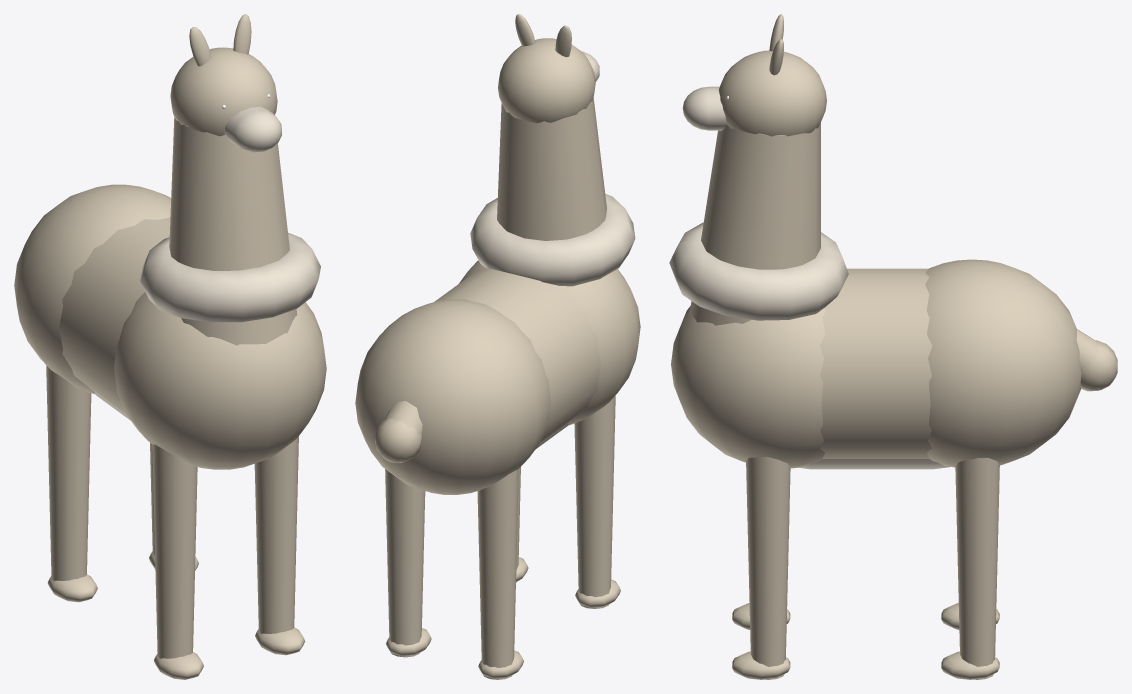
The model's file is h17-llama.glb.
3 views of the same model, side by side, from view 1: azimuth 30°, elevation 25°; view 2: azimuth 150°, elevation 25°; view 3: azimuth 270°, elevation 25° (orthographic). The views are drawn at different scales.
Visible parts, largest first — view 1: Llama, neck, head; view 2: Llama, neck, head; view 3: Llama, neck, head.
Part boxes in pixels (left/top/right/bottom): Llama: left=14, top=184, right=326, bottom=679; neck: left=140, top=117, right=320, bottom=345; head: left=170, top=14, right=281, bottom=152; Llama: left=355, top=260, right=640, bottom=679; neck: left=470, top=98, right=635, bottom=286; head: left=498, top=14, right=599, bottom=123; Llama: left=671, top=259, right=1117, bottom=679; neck: left=669, top=122, right=848, bottom=325; head: left=682, top=14, right=826, bottom=136.
Size of the model in its own units: 0.44 by 1.45 by 0.9416.
